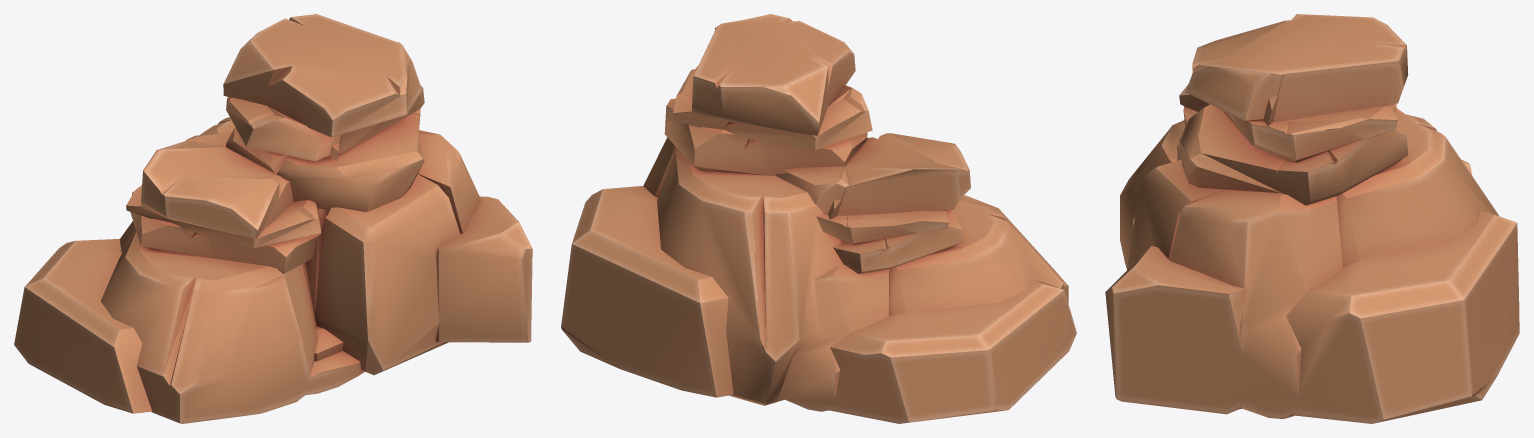
The model's file is rock_3.glb.
3 views of the same model, side by side, from view 1: azimuth 30°, elevation 25°; view 2: azimuth 150°, elevation 25°; view 3: azimuth 270°, elevation 25° (orthographic). The views are drawn at different scales.
Parts seen in each view (by area): view 1: Rock_3; view 2: Rock_3; view 3: Rock_3.
Part boxes in pixels (x1,y1,x2,y2): Rock_3: (14,14,532,423); Rock_3: (561,14,1076,423); Rock_3: (1105,14,1519,423).
Size of the model in its own units: 16.68 by 10.27 by 12.38.
1 material, 1 textured.
